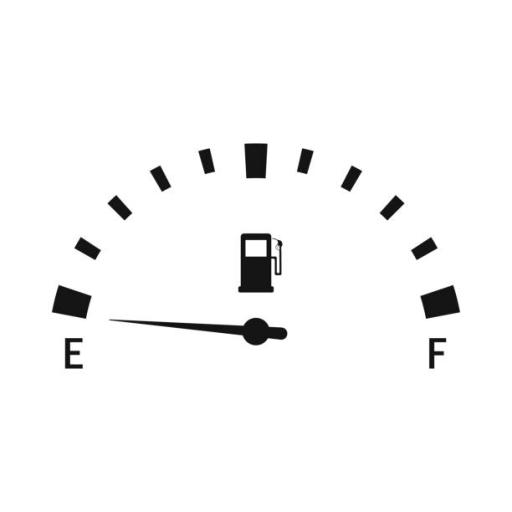empty: (61, 334, 85, 375)
fuel_icon: (237, 226, 284, 294)
full: (428, 336, 448, 371)
guage_area: (52, 136, 466, 434)
needle_center: (234, 310, 276, 356)
needle_tip: (106, 312, 144, 328)
